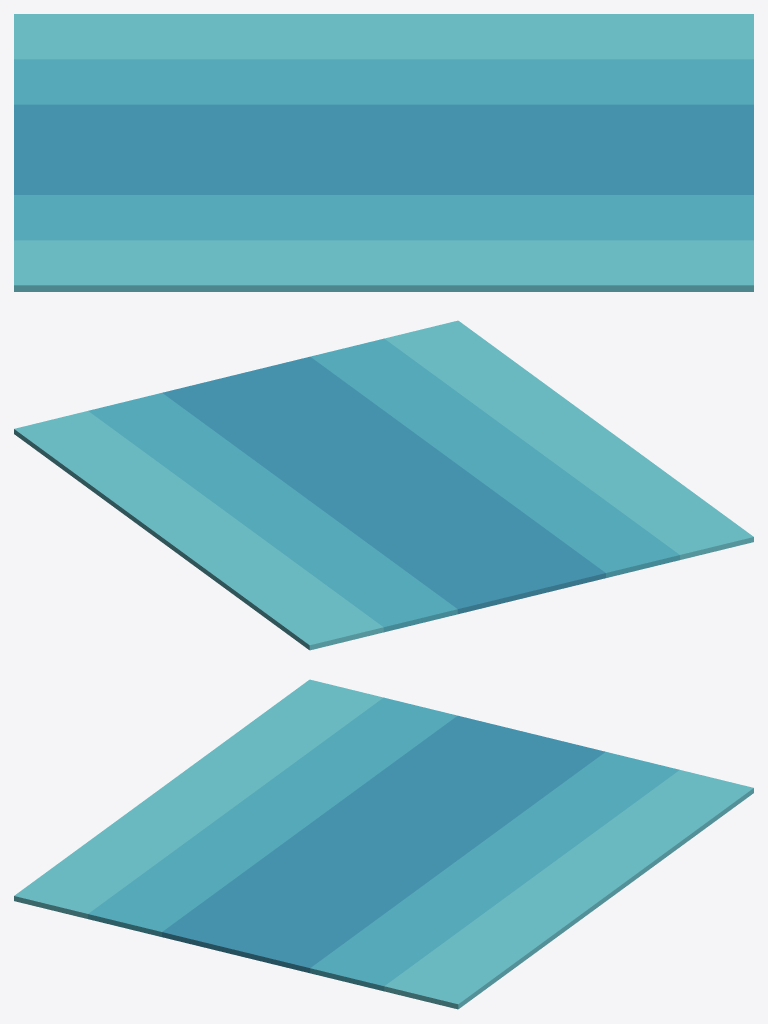
3 views of the same model, one above another, from view 1: azimuth 30°, elevation 25°; view 2: azimuth 150°, elevation 25°; view 3: azimuth 270°, elevation 25° (orthographic). The views are drawn at different scales.
Parts seen in each view (by area): view 1: 支流3_六层水色.001; view 2: 支流3_六层水色.001; view 3: 支流3_六层水色.001.
Part boxes in pixels (<box>): 支流3_六层水色.001: <box>14,14,753,291</box>; 支流3_六层水色.001: <box>14,320,753,650</box>; 支流3_六层水色.001: <box>14,679,753,1009</box>.
Bounding box in the file's own units: 1.08 × 0.008 × 1.04.
